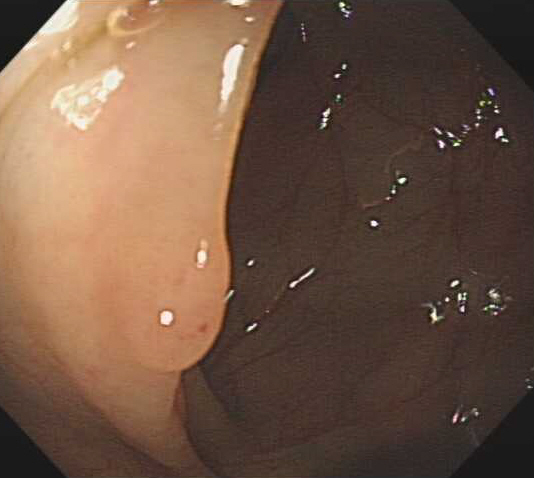adenoma: (106, 209, 232, 374)
